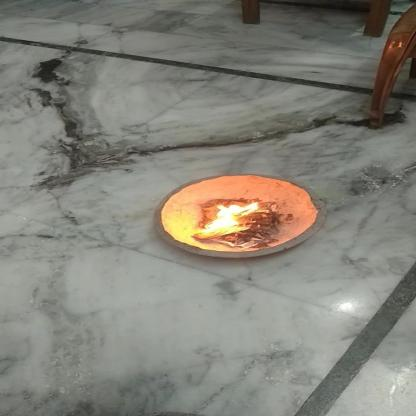fire: (200, 197, 264, 239)
